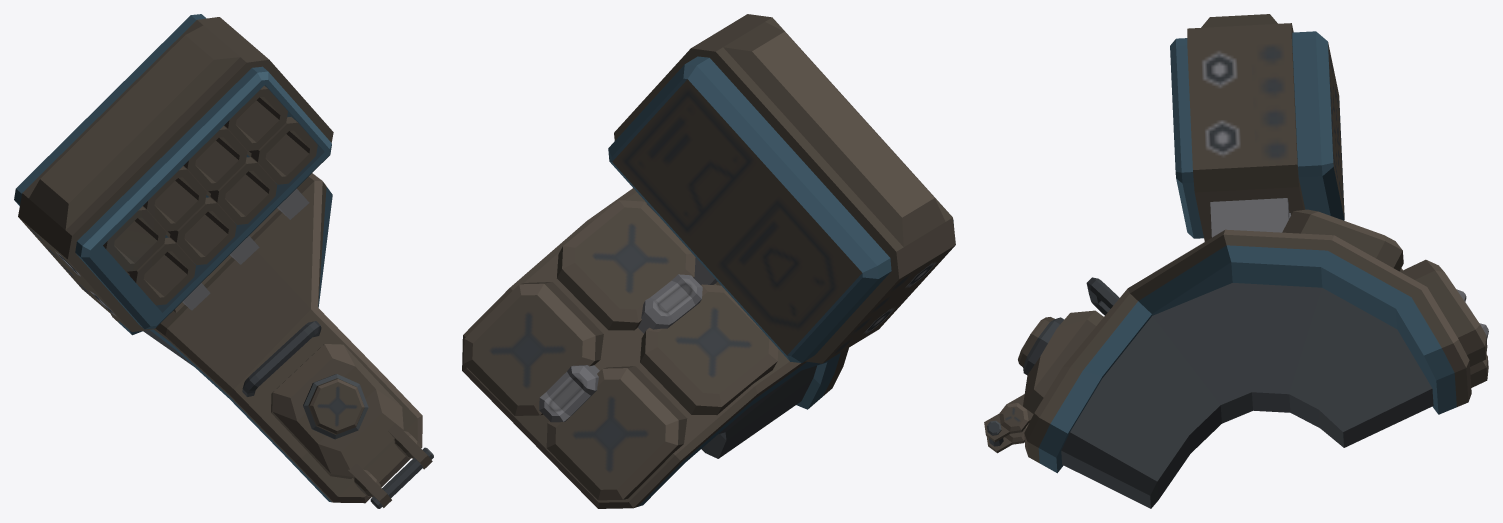
Rendered from SM_Mech_Chest_01_Armor_Collar_03_Empty.fbx.
3 renders of one model, left to right at view 1: azimuth 30°, elevation 25°; view 2: azimuth 150°, elevation 25°; view 3: azimuth 270°, elevation 25°, orthographic. The views are drawn at different scales.
Visible parts, largest first — view 1: SM_Mech_Chest_01_Armor_Collar_03_Empty; view 2: SM_Mech_Chest_01_Armor_Collar_03_Empty; view 3: SM_Mech_Chest_01_Armor_Collar_03_Empty.
Boxes of the visible parts, x1,y1,x2,y2 form: SM_Mech_Chest_01_Armor_Collar_03_Empty: (14,14,433,508); SM_Mech_Chest_01_Armor_Collar_03_Empty: (462,14,955,508); SM_Mech_Chest_01_Armor_Collar_03_Empty: (984,14,1488,508).
Size of the model in its own units: 96.61 by 121 by 124.
